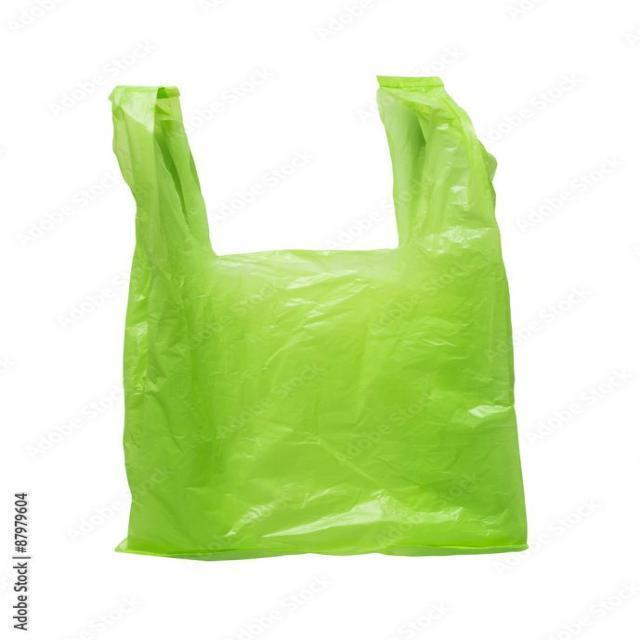Plastic_Bag: (87, 74, 536, 558)
